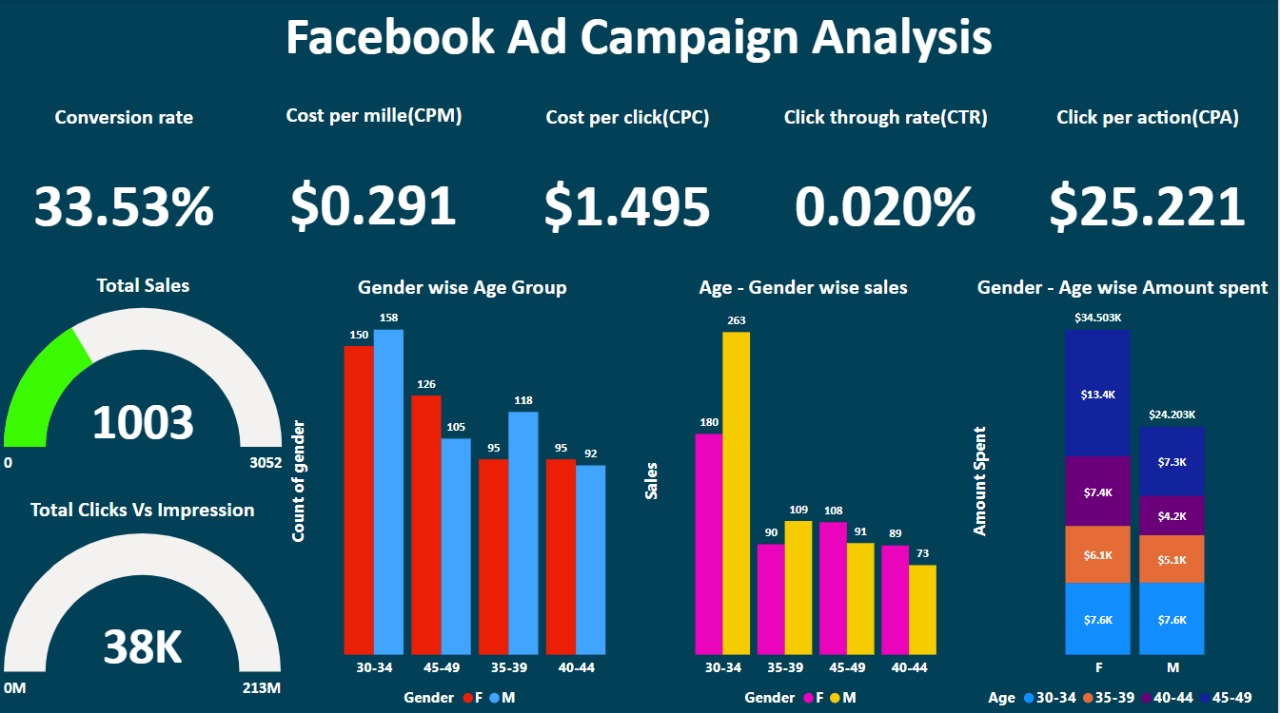

Layout of this report page (visuals, bound fields, positions):
{"tool":"powerbi","page":{"name":"Page 1","canvas":[1280,720],"ordinal":0},"visuals":[{"type":"textbox","box":[0,0,1280,103.1],"z":0},{"type":"card","title":"Conversion rate","fields":{"Values":["Avg(working.Conversion rate)"]},"box":[0,104.9,250.2,171.4],"z":0,"group":"g1"},{"type":"clusteredColumnChart","title":"Gender wise Age Group","fields":{"Category":["working.age"],"Y":["CountNonNull(working.gender)"],"Series":["working.gender"]},"box":[287.3,276.3,353.3,444.1],"z":0,"group":"g2"},{"type":"group","id":"g1","title":"Group 1","box":[0,103.1,1280,173.2],"z":6},{"type":"card","title":"Cost per click(CPC)","fields":{"Values":["Avg(working.CPC)"]},"box":[500.5,104.9,255.7,171.4],"z":1000,"group":"g1"},{"type":"gauge","title":"Total Sales","fields":{"MaxValue":["Sum(working.Total_Conversion)"],"Y":["Sum(working.Approved_Conversion)"]},"box":[0,273.5,288.2,220.7],"z":1000,"group":"g2"},{"type":"card","title":"Click through rate(CTR)","fields":{"Values":["Avg(working.CTR)"]},"box":[756.2,104.9,262.6,171.4],"z":2000,"group":"g1"},{"type":"gauge","title":"Total Clicks Vs Impression","fields":{"MaxValue":["Sum(working.Impressions)"],"Y":["Sum(working.Clicks)"]},"box":[0,498.4,287,221.9],"z":2000,"group":"g2"},{"type":"card","title":"Cost per mille(CPM)","fields":{"Values":["Avg(working.CPM)"]},"box":[250.2,103.1,250.2,173.2],"z":3000,"group":"g1"},{"type":"clusteredColumnChart","title":"Age - Gender wise sales","fields":{"Category":["working.age"],"Y":["Sum(working.Approved_Conversion)"],"Series":["working.gender"]},"box":[640.7,276.3,328.6,444.1],"z":3000,"group":"g2"},{"type":"card","title":"Click per action(CPA)","fields":{"Values":["Avg(working.CPA)"]},"box":[1018.8,104.9,261.2,171.4],"z":4000,"group":"g1"},{"type":"columnChart","title":"Gender - Age wise Amount spent","fields":{"Category":["working.gender"],"Y":["Sum(working.Spent)"],"Series":["working.age"]},"box":[969.3,276.3,310.7,444.1],"z":4000,"group":"g2"},{"type":"group","id":"g2","title":"Group 2","box":[0,273.5,1280,446.9],"z":4001}]}

Visuals, with their boxes in screenshot pixels (x1, y1, x2, y2), scaled from the page's 1280x720 canvas onto the 1280x713 screenshot:
textbox: 0,0,1279,102
"Conversion rate" card: 0,104,250,274
"Gender wise Age Group" clusteredColumnChart: 287,274,641,712
"Group 1" group: 0,102,1279,274
"Cost per click(CPC)" card: 500,104,756,274
"Total Sales" gauge: 0,271,288,489
"Click through rate(CTR)" card: 756,104,1019,274
"Total Clicks Vs Impression" gauge: 0,494,287,712
"Cost per mille(CPM)" card: 250,102,500,274
"Age - Gender wise sales" clusteredColumnChart: 641,274,969,712
"Click per action(CPA)" card: 1019,104,1279,274
"Gender - Age wise Amount spent" columnChart: 969,274,1279,712
"Group 2" group: 0,271,1279,712
